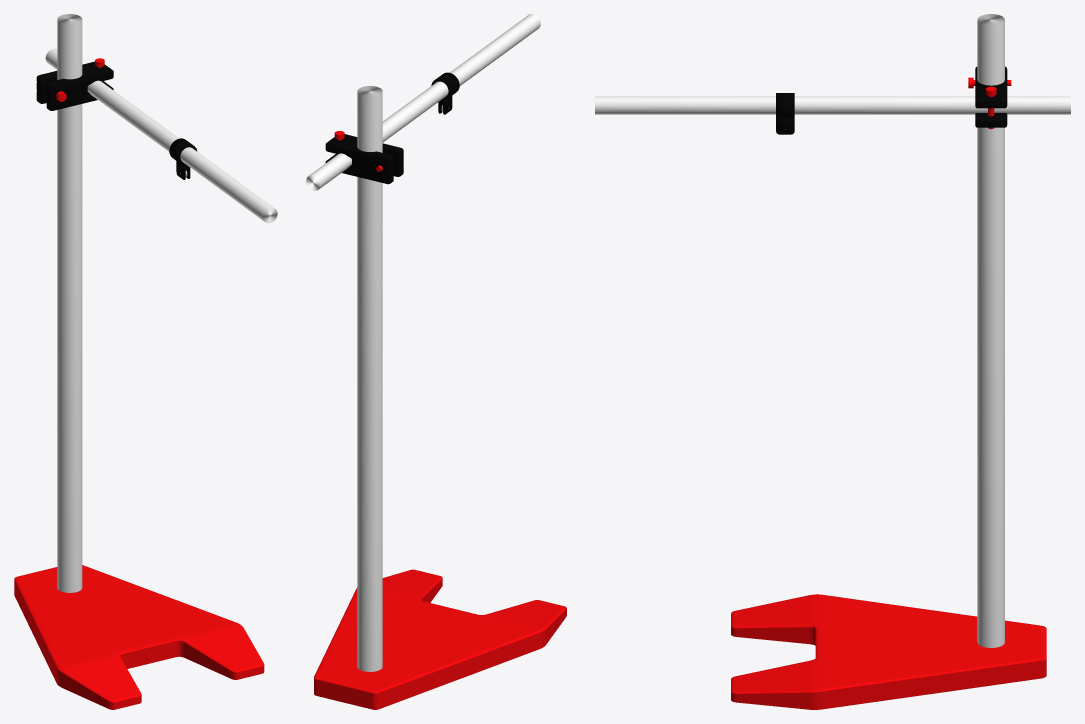
File: tiang pegas.fbx
3 renders of one model, left to right at view 1: azimuth 30°, elevation 25°; view 2: azimuth 150°, elevation 25°; view 3: azimuth 270°, elevation 25°, orthographic. The views are drawn at different scales.
Visible parts, largest first — view 1: kaki kaki, tiang, tiang atas, Cube.001, Cylinder.002; view 2: kaki kaki, tiang, tiang atas, Cube.001, Cylinder.002; view 3: kaki kaki, tiang, tiang atas, Cube.001, Cylinder.002.
Part boxes in pixels (bbox=[...]): kaki kaki: bbox=[14, 565, 264, 709]; tiang: bbox=[57, 14, 82, 592]; tiang atas: bbox=[45, 48, 277, 223]; Cube.001: bbox=[36, 61, 113, 110]; Cylinder.002: bbox=[169, 138, 197, 179]; kaki kaki: bbox=[314, 569, 566, 709]; tiang: bbox=[357, 86, 382, 671]; tiang atas: bbox=[306, 14, 540, 190]; Cube.001: bbox=[325, 134, 403, 184]; Cylinder.002: bbox=[431, 72, 459, 114]; kaki kaki: bbox=[731, 594, 1046, 709]; tiang: bbox=[977, 14, 1004, 647]; tiang atas: bbox=[595, 96, 1070, 114]; Cube.001: bbox=[975, 66, 1007, 127]; Cylinder.002: bbox=[776, 93, 794, 134].
Bounding box in the file's own units: 1446 × 4436 × 2978.
